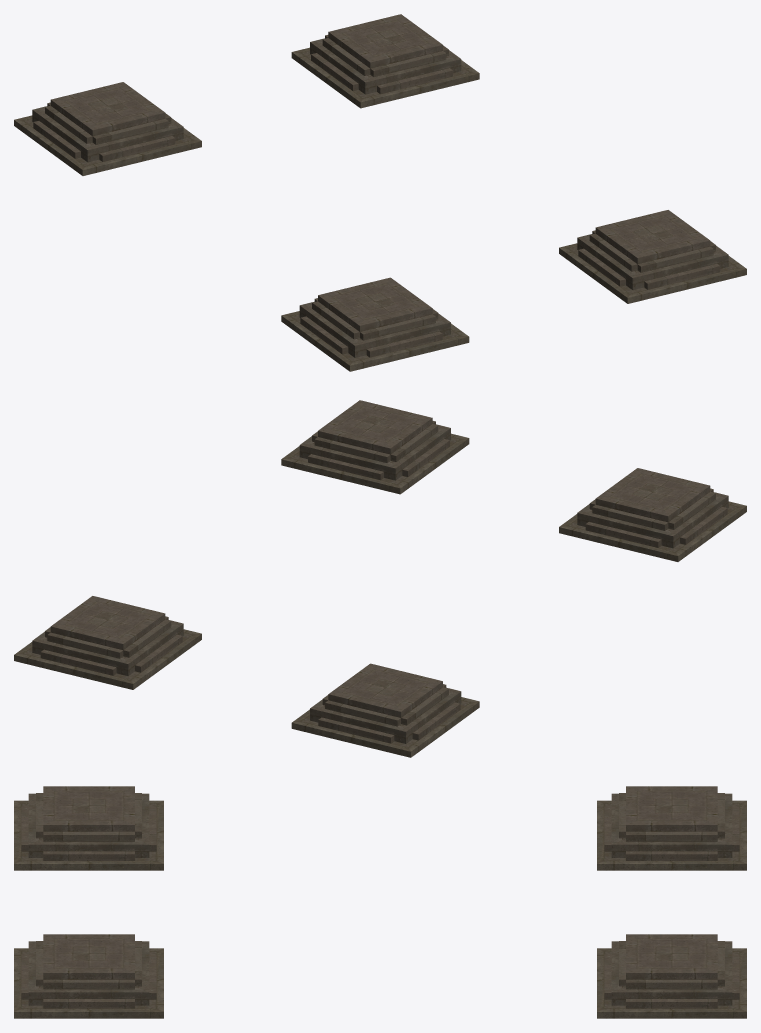
File: levelPedestalBase.glb
The picture shows the model from 3 angles, top to bottom: view 1: azimuth 30°, elevation 25°; view 2: azimuth 150°, elevation 25°; view 3: azimuth 270°, elevation 25°; orthographic projection. The views are drawn at different scales.
Visible parts, largest first — view 1: Pedestal; view 2: Pedestal; view 3: Pedestal.
Part boxes in pixels (x1,y1,x2,y2): Pedestal: [14, 14, 746, 371]; Pedestal: [14, 400, 746, 757]; Pedestal: [14, 786, 746, 1018].
Size of the model in its own units: 8.58 by 0.6282 by 12.58.
Materials: 1 (1 with a texture image).
